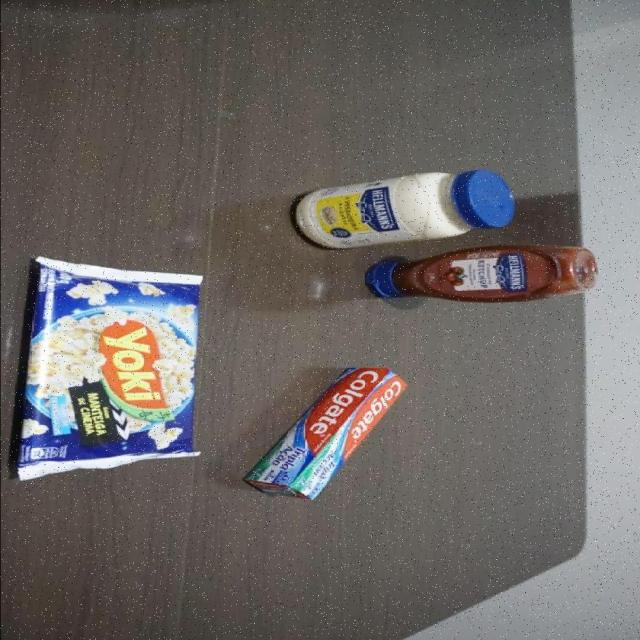Ketchup: (363, 244, 599, 303)
Mayonnaise: (290, 170, 512, 251)
Popcorn: (10, 257, 203, 483)
Toothpaste: (243, 367, 408, 501)
